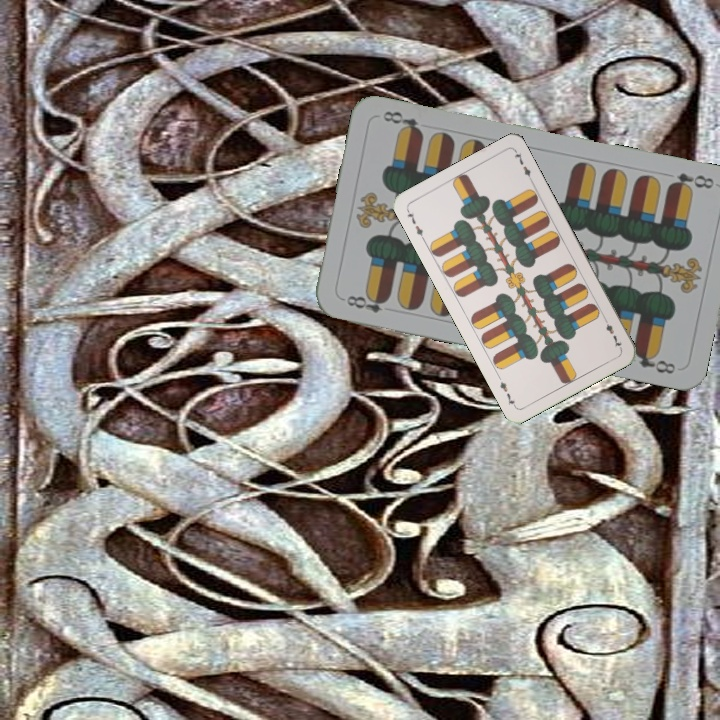E7: (599, 314, 624, 351), (403, 206, 427, 243)
E8: (664, 168, 717, 195), (338, 290, 392, 316)
